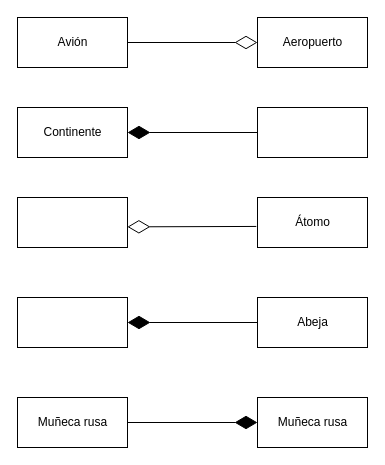
This 385x465 diagram has some shape labels left out. The shapes that lost their labels are listed below. From the top down, each one's centre as x and y in pixels, then its label:
(x=312, y=132): País
(x=72, y=222): Molécula
(x=72, y=322): Colmena
